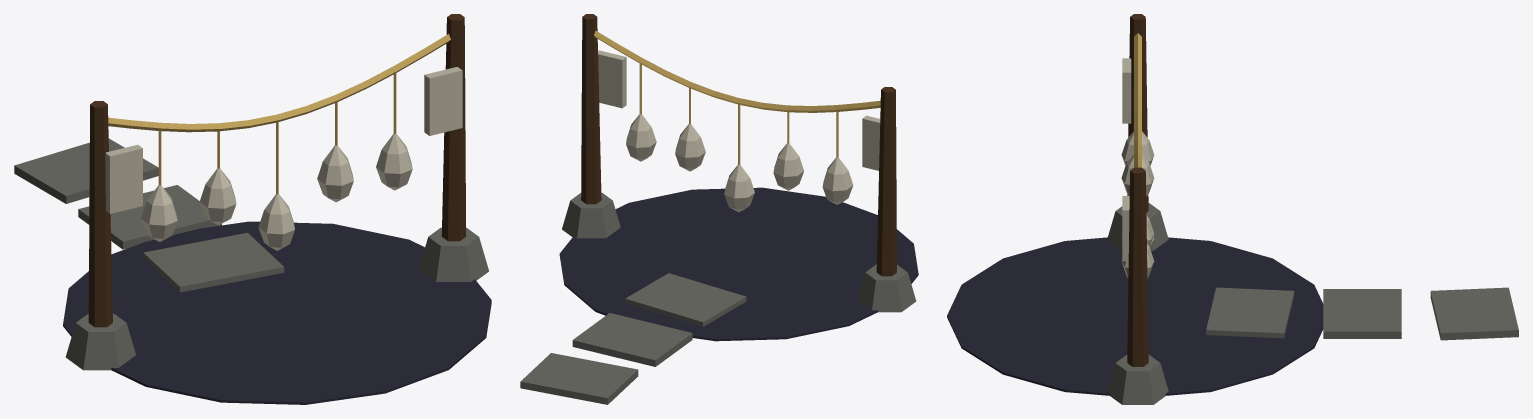
Rendered from prop_soulpath_gate_off.glb.
3 renders of one model, left to right at view 1: azimuth 30°, elevation 25°; view 2: azimuth 150°, elevation 25°; view 3: azimuth 270°, elevation 25°, orthographic. The views are drawn at different scales.
Visible parts, largest first — view 1: prop_soulpath_gate_off; view 2: prop_soulpath_gate_off; view 3: prop_soulpath_gate_off.
Part boxes in pixels (x1=…): prop_soulpath_gate_off: x1=14, y1=14, x2=491, y2=404; prop_soulpath_gate_off: x1=520, y1=14, x2=918, y2=404; prop_soulpath_gate_off: x1=947, y1=14, x2=1518, y2=404.
Size of the model in its own units: 3.68 by 2.2 by 5.09.
